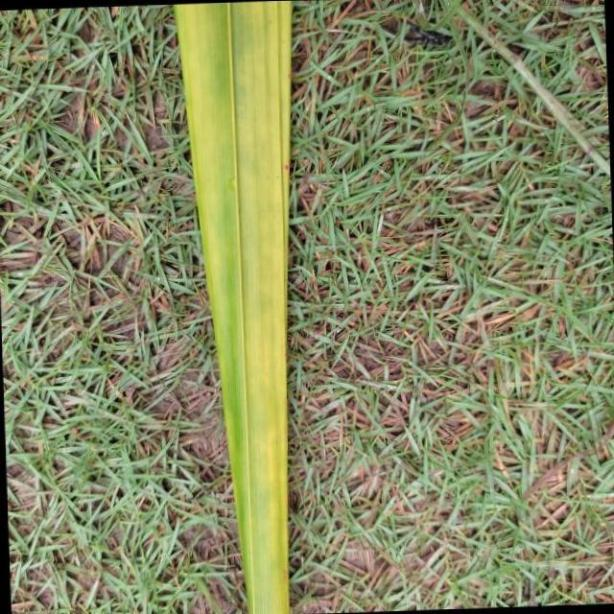nitrogen: (174, 0, 296, 614)
